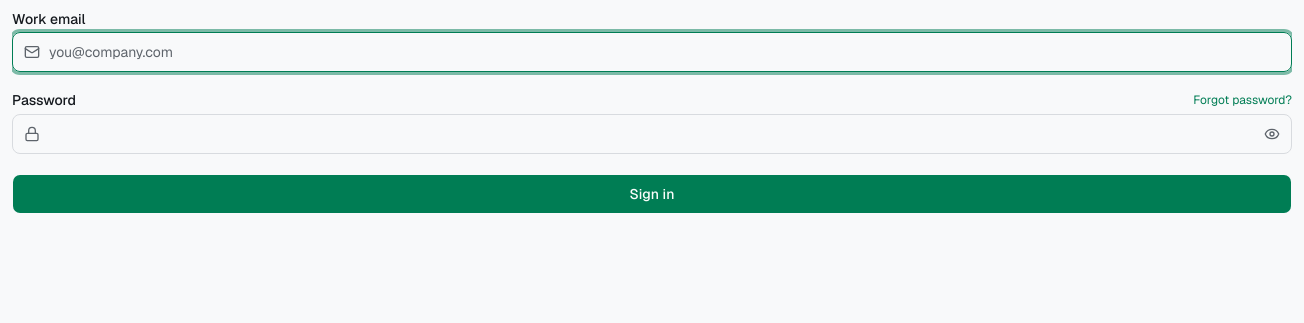
Test: LoginForm › two-step verification › shows a wrong-code error and stays on the step
This screenshot has width=1304, height=323.
Type "a@b.co" into the field labelled "Work email". click: point(652, 52)
box: top-left (12, 32), bottom-right (1292, 72)
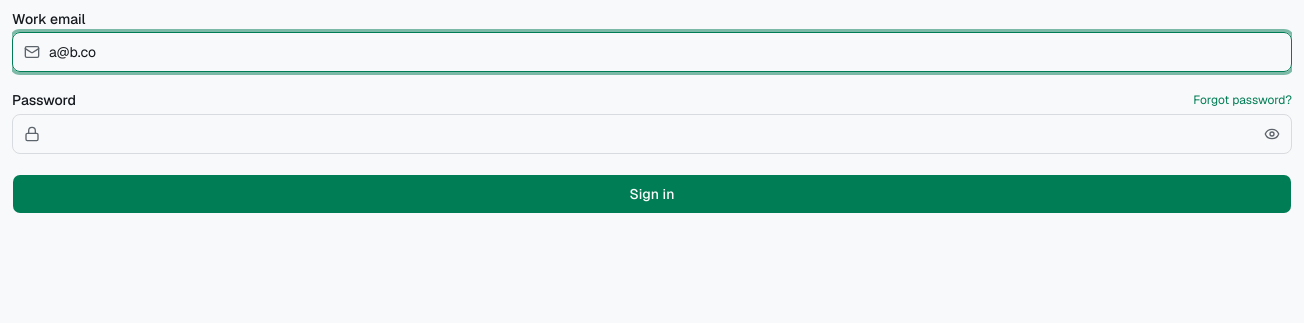
Type "pw" into the password field labelled "Password". click: point(652, 134)
box: top-left (12, 114), bottom-right (1292, 154)
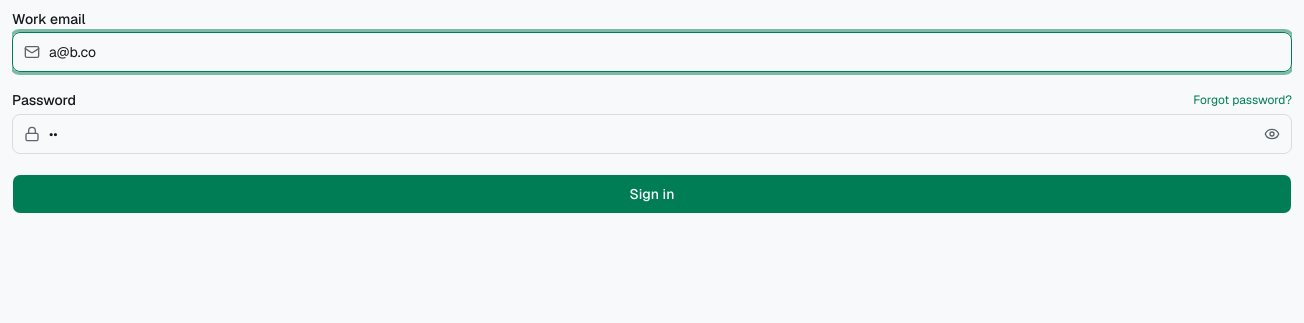
Click the button "Sign in". click: point(652, 194)
box: top-left (12, 174), bottom-right (1292, 214)
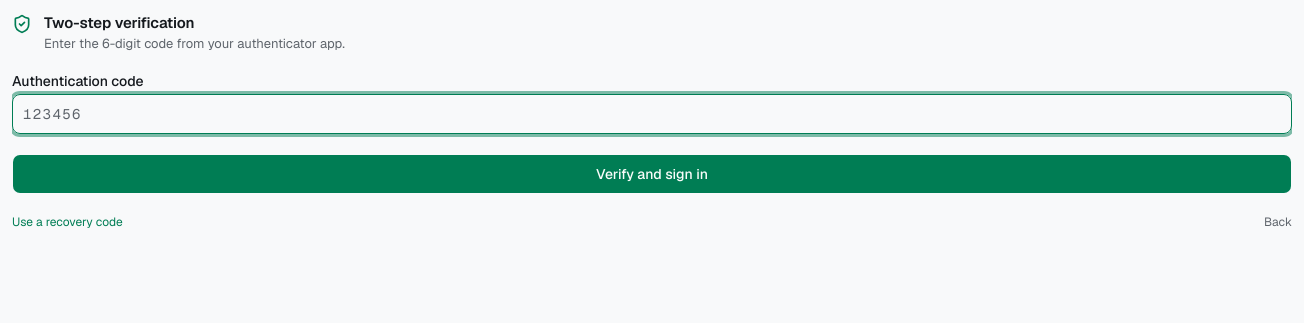
Check: the field labelled "Authentication code" is shown
Type "000000" into the field labelled "Authentication code". click: point(652, 114)
box: top-left (12, 94), bottom-right (1292, 134)
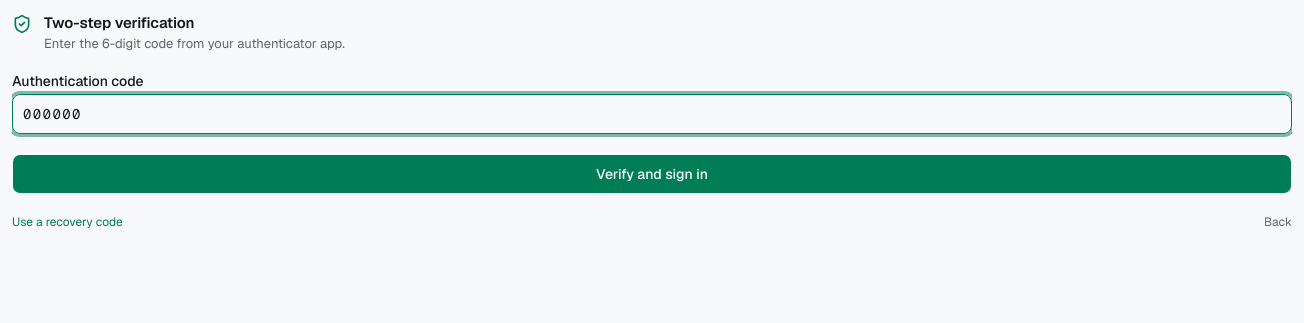
Click the button "Verify and sign in". click: point(652, 174)
box: top-left (12, 154), bottom-right (1292, 194)
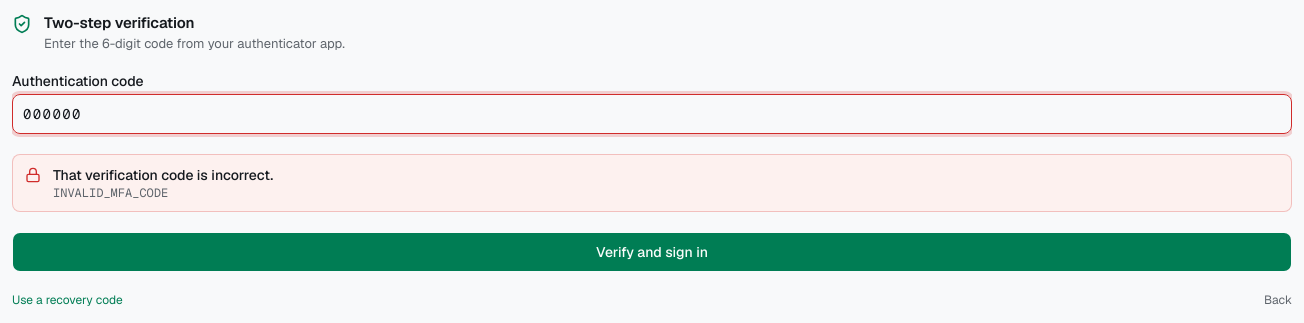
Check: the message shows "That verification code is incorrect.", box top-left (53, 166), bottom-right (273, 184)
